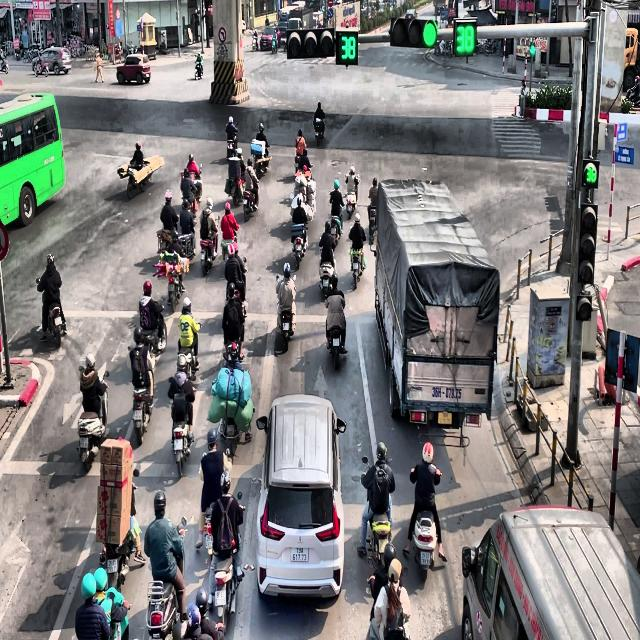lisence_plate: (431, 384, 462, 400), (435, 409, 454, 430), (290, 546, 309, 564)
